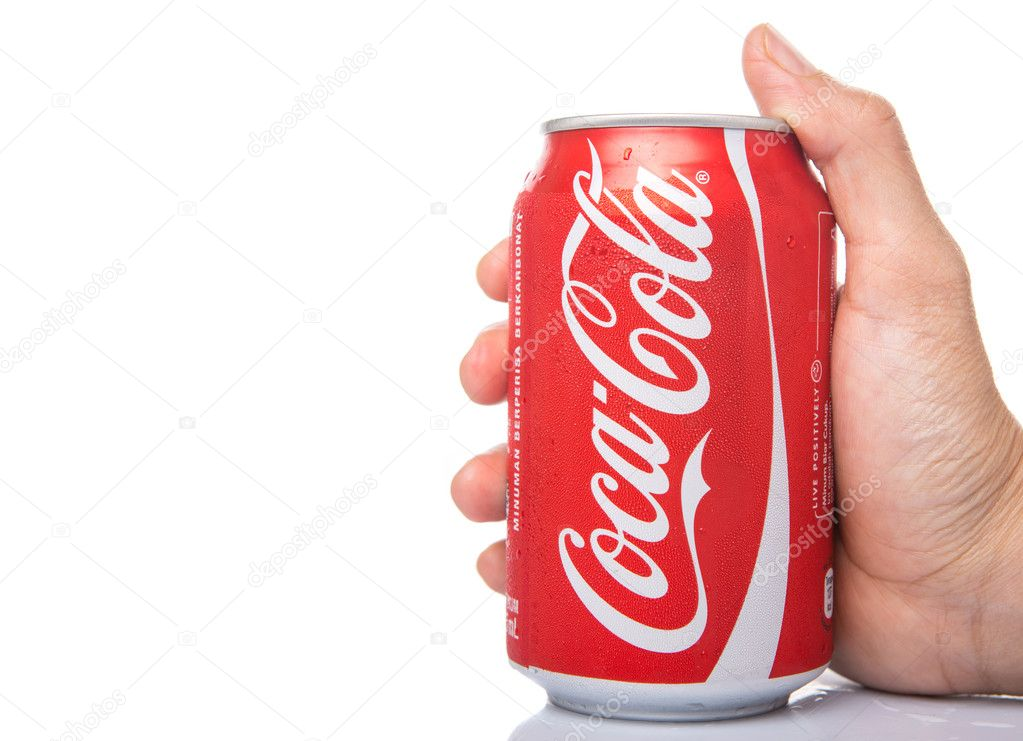coke: (511, 116, 840, 722)
